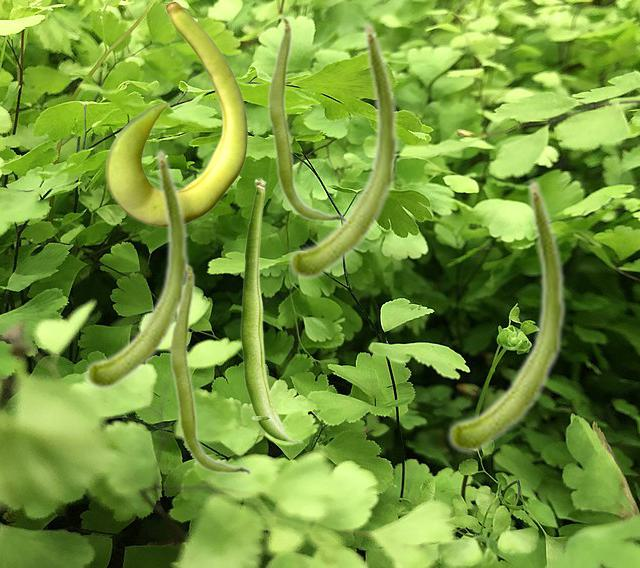french_bean: (446, 177, 566, 453), (105, 1, 247, 226), (287, 20, 399, 279), (84, 147, 189, 389), (168, 264, 252, 475), (266, 15, 348, 223), (240, 178, 303, 442)
